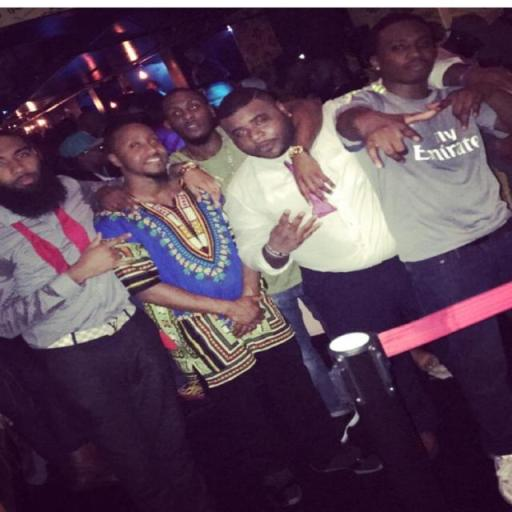Emirates: (412, 127, 482, 164)
